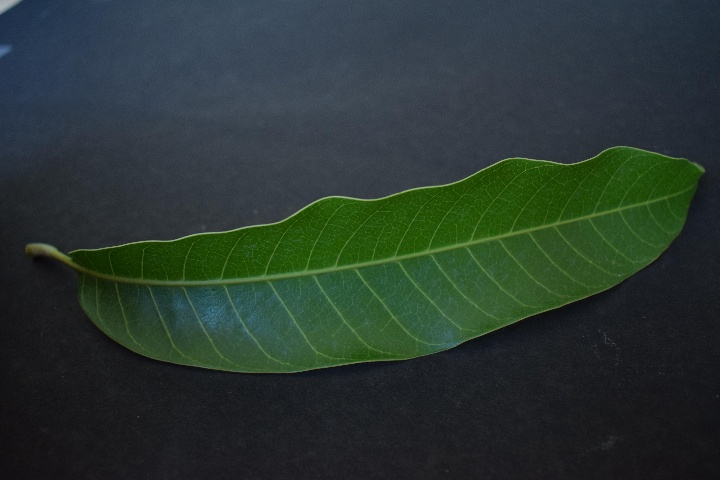healthy: (75, 141, 688, 377)
